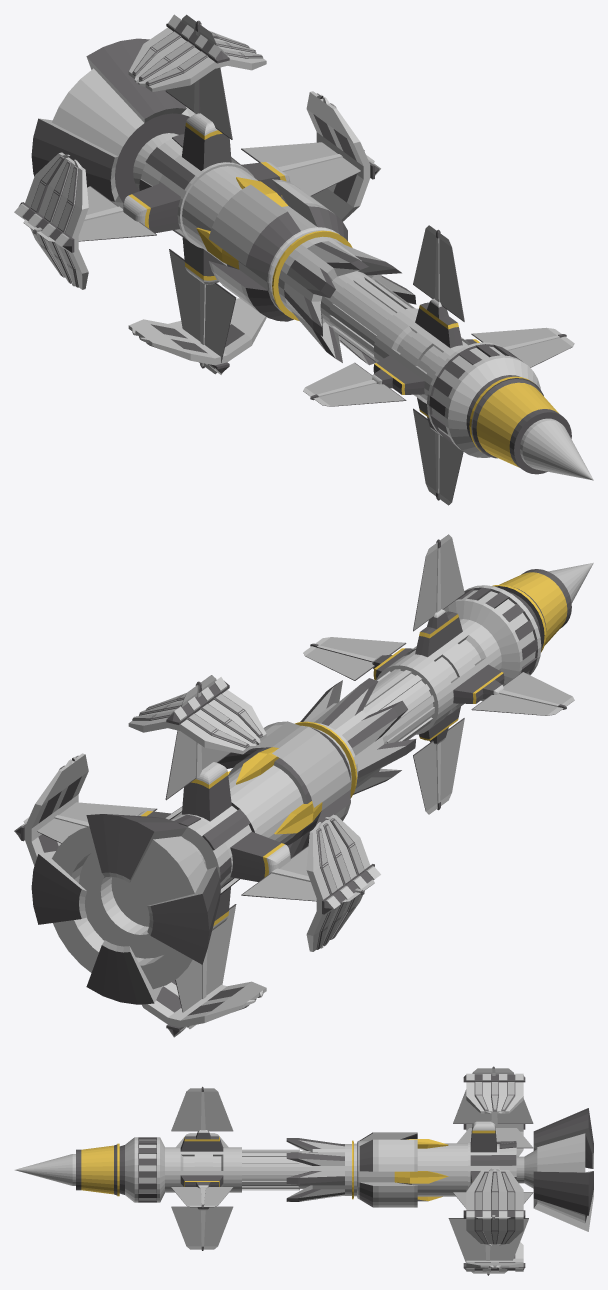
The model's file is Souper_R8EA_Missile.fbx.
The picture shows the model from 3 angles, top to bottom: view 1: azimuth 30°, elevation 25°; view 2: azimuth 150°, elevation 25°; view 3: azimuth 270°, elevation 25°; orthographic projection. The views are drawn at different scales.
Visible parts, largest first — view 1: Cone; view 2: Cone; view 3: Cone.
Boxes of the visible parts, x1,y1,x2,y2 form: Cone: [14, 14, 593, 505]; Cone: [14, 534, 593, 1037]; Cone: [15, 1066, 593, 1275].
Size of the model in its own units: 1.98 by 1.97 by 4.96.
